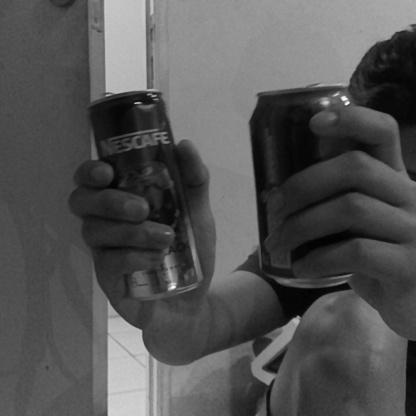alumunium_can: (91, 86, 199, 302), (248, 83, 356, 289)
